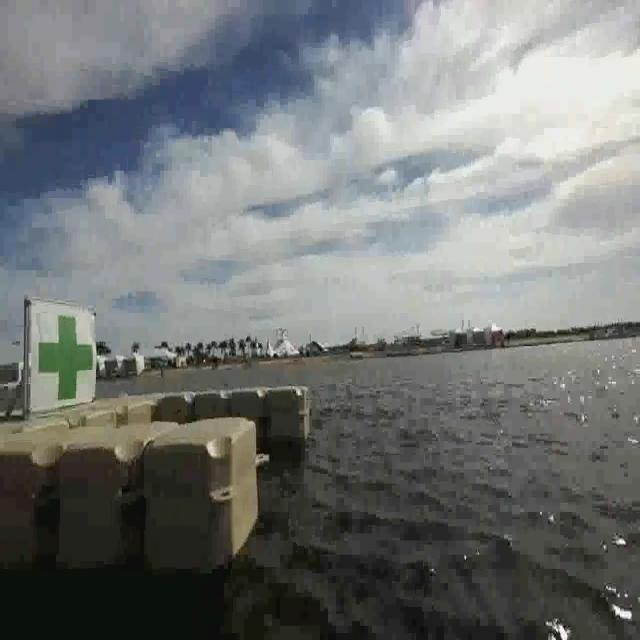blue-cross: (32, 301, 92, 410)
